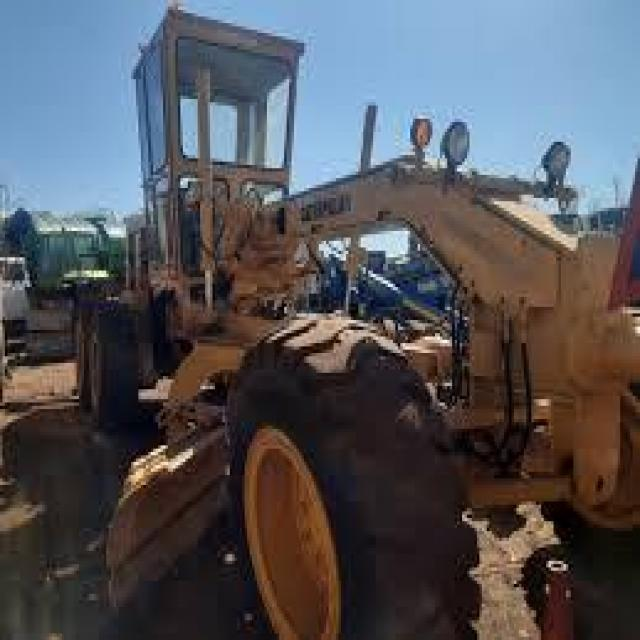Grader: (52, 6, 630, 636)
